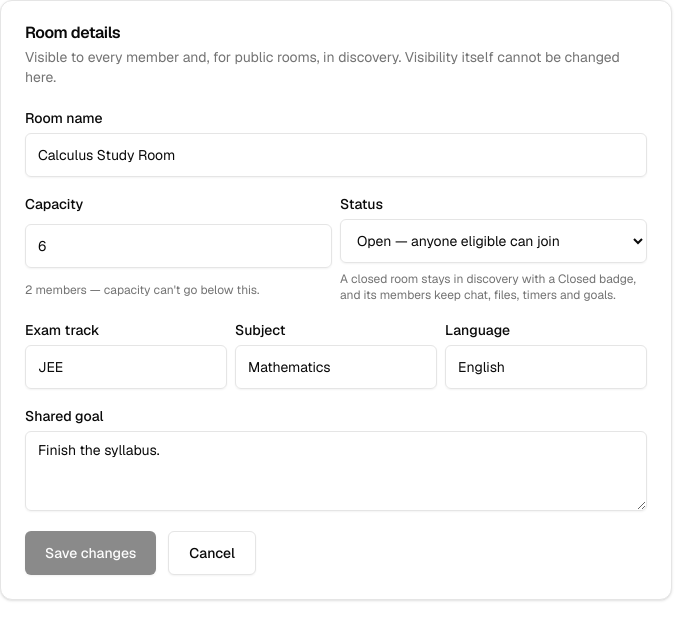
Test case: RoomSettingsForm › keeps Save disabled until a field actually changes
Expected: the button "Save changes" is disabled, [25,531,156,575]
Replace the text in the field labelled "Room name" with "Renamed" at (336,155), box [25,133,647,177]
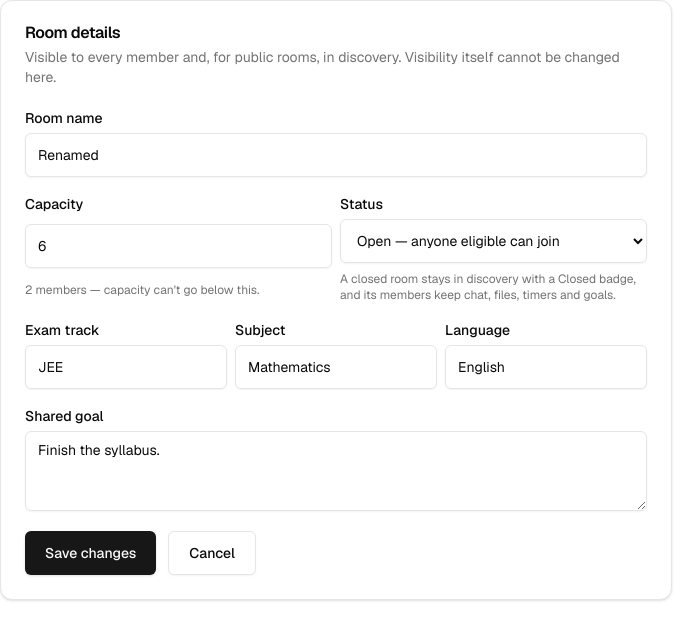
Expected: the button "Save changes" is enabled, [25,531,156,575]
